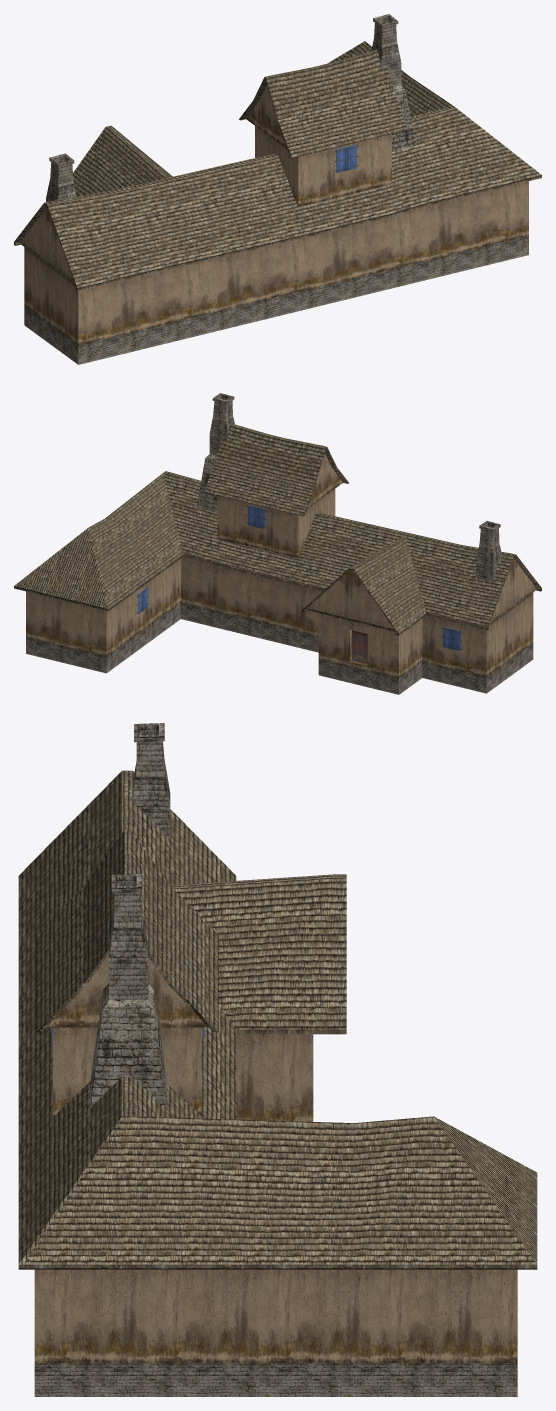
Rendered from f1_house02_lod2.dae.
3 renders of one model, top to bottom at view 1: azimuth 30°, elevation 25°; view 2: azimuth 150°, elevation 25°; view 3: azimuth 270°, elevation 25°, orthographic. The views are drawn at different scales.
Visible parts, largest first — view 1: f1_house02_lod2_Layer1; view 2: f1_house02_lod2_Layer1; view 3: f1_house02_lod2_Layer1.
Boxes of the visible parts, left/top/right/bottom form: f1_house02_lod2_Layer1: left=14, top=14, right=541, bottom=364; f1_house02_lod2_Layer1: left=14, top=393, right=541, bottom=694; f1_house02_lod2_Layer1: left=18, top=723, right=537, bottom=1396.
Size of the model in its own units: 24.75 by 12.45 by 13.96.
